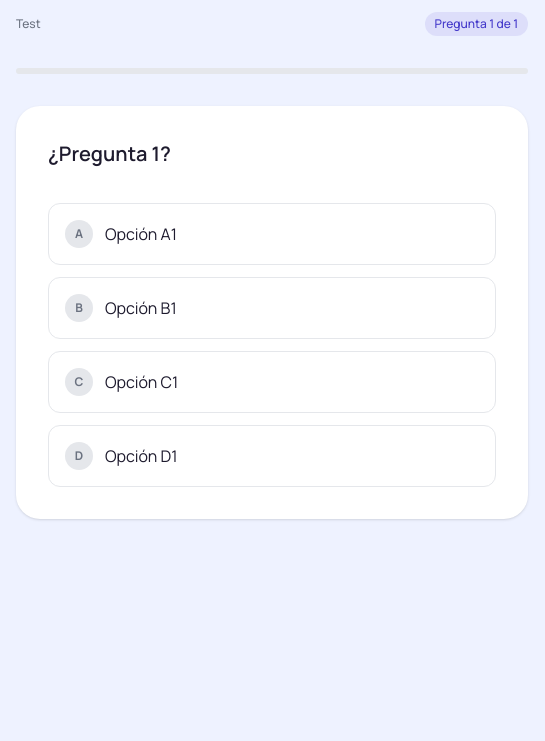
Scenario: TestRunner › sin explicacionGeneradaIA no muestra el aviso de contenido generado
The image size is (545, 741).
Click the button with test id "opcion-a". click: (141, 234)
box: [48,202,496,264]
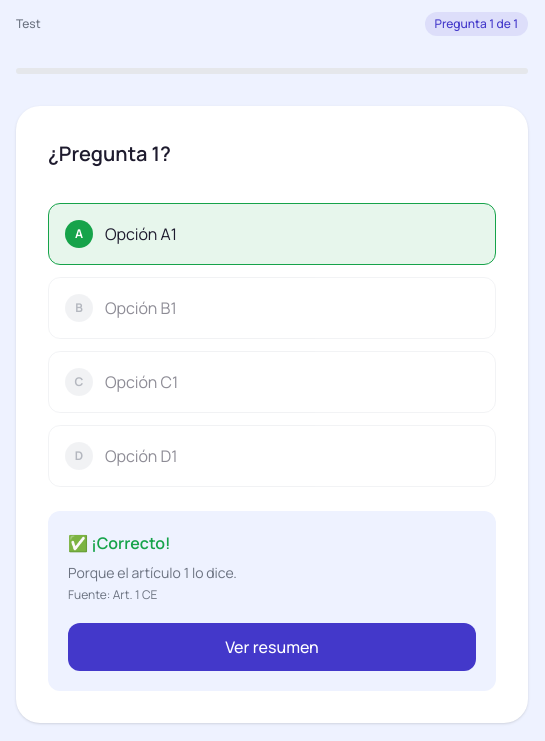
Expected: the element with test id "feedback" is shown, [48,510,496,690]
